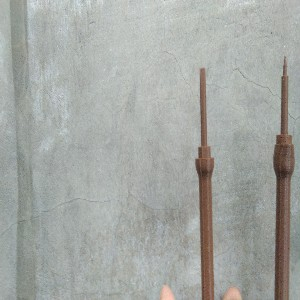obeng: (195, 66, 215, 300)
solder: (272, 53, 297, 300)
